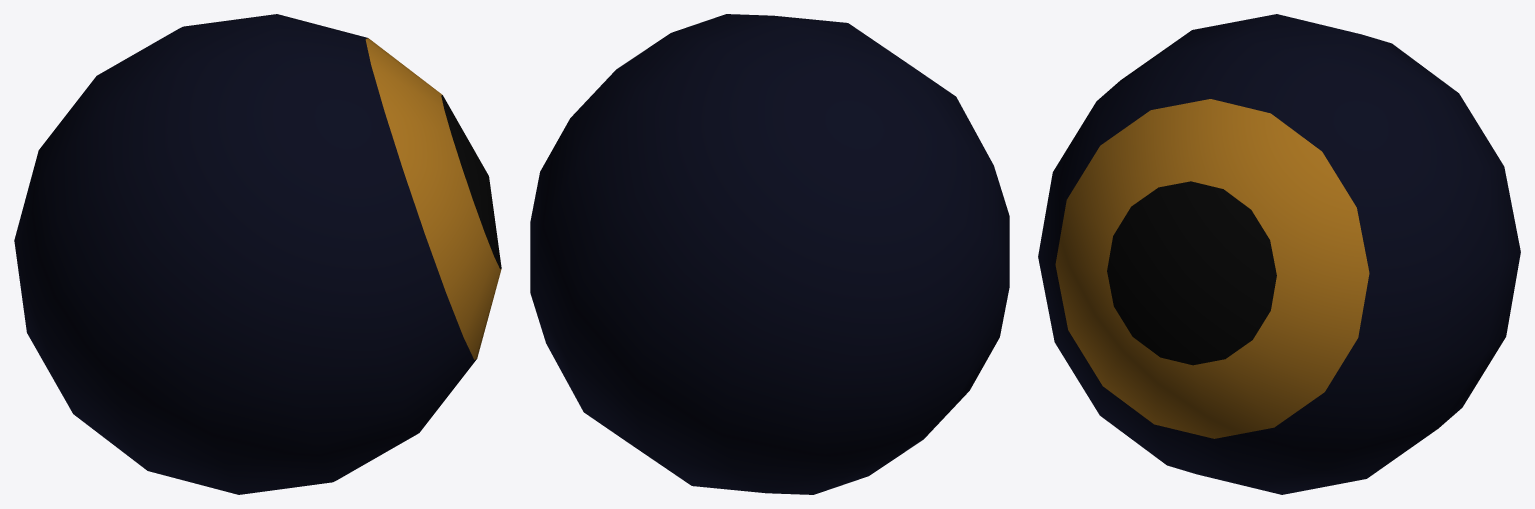
Rendered from frog_eye.obj.
3 renders of one model, left to right at view 1: azimuth 30°, elevation 25°; view 2: azimuth 150°, elevation 25°; view 3: azimuth 270°, elevation 25°, orthographic.
Visible parts, largest first — view 1: eye; view 2: eye; view 3: eye.
Boxes of the visible parts, x1,y1,x2,y2 form: eye: (14,14,501,494); eye: (530,14,1009,494); eye: (1038,14,1520,494).
Size of the model in its own units: 0.00855 by 0.00852 by 0.00863.
